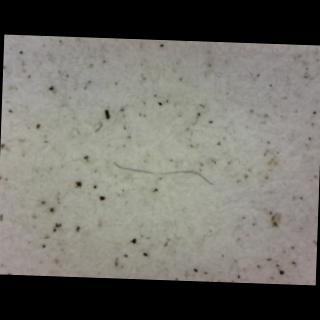Microplastic: (106, 148, 223, 198)
